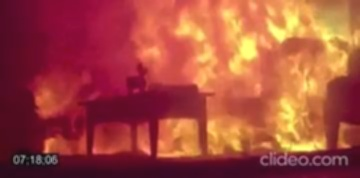fire: (26, 1, 360, 152)
